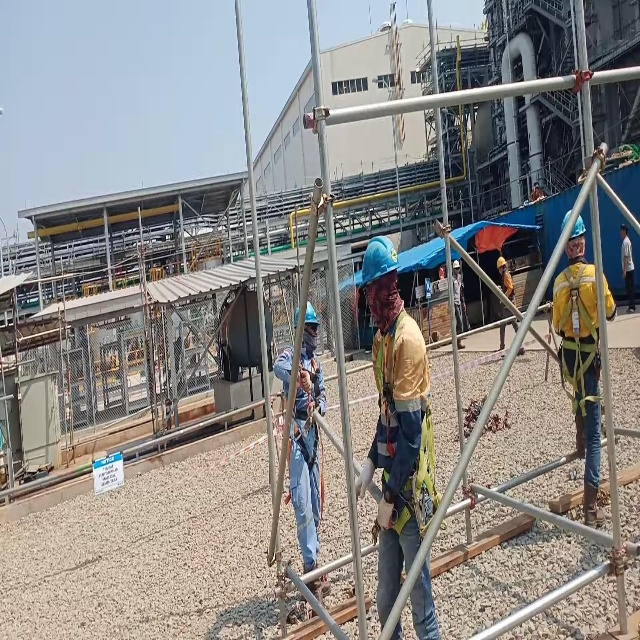Arnes_seguridad: (372, 322, 446, 543), (282, 346, 328, 530), (556, 257, 606, 419)
